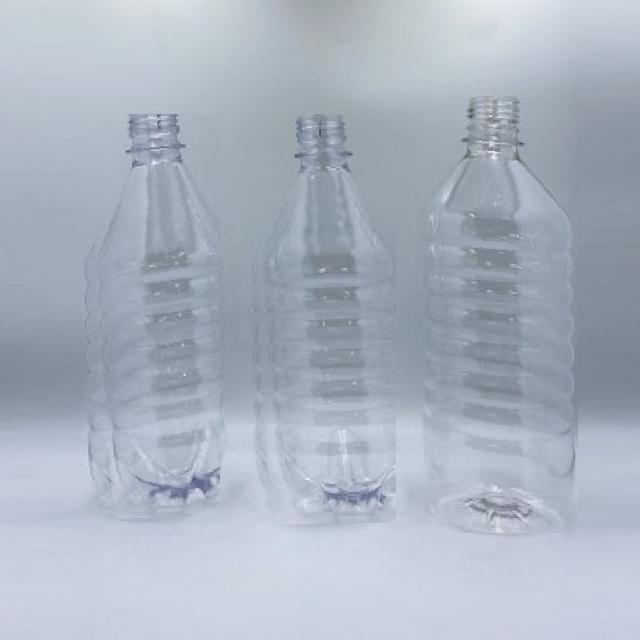plastic bottle: (414, 98, 578, 533), (244, 114, 396, 524), (84, 114, 220, 520)
